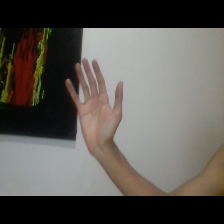left: (58, 52, 135, 153)
